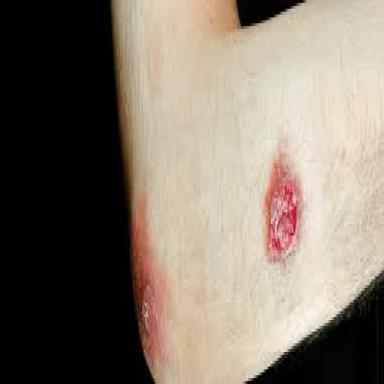Leishmanios: (132, 236, 169, 380), (265, 156, 302, 263)
